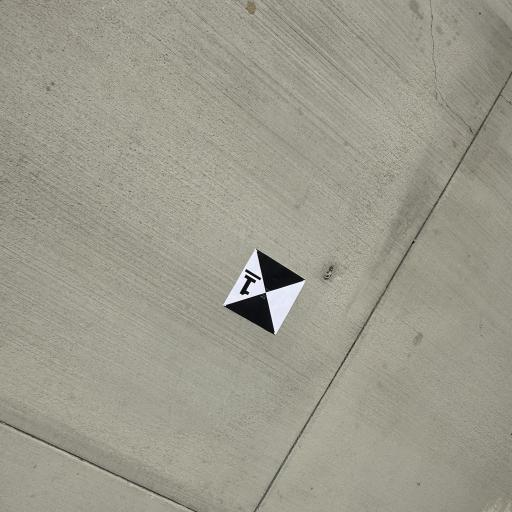target1: (220, 244, 311, 341)
